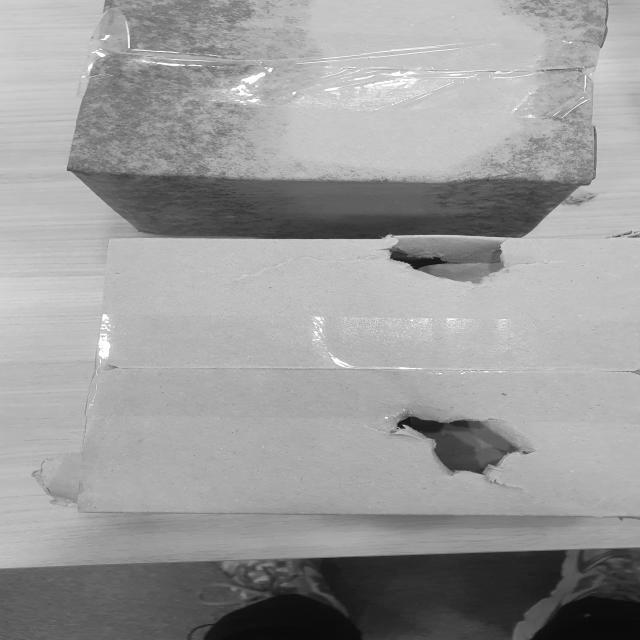hole: (396, 405, 541, 479), (368, 238, 513, 280)
wet: (72, 2, 308, 216), (471, 80, 616, 224), (502, 0, 610, 57)
